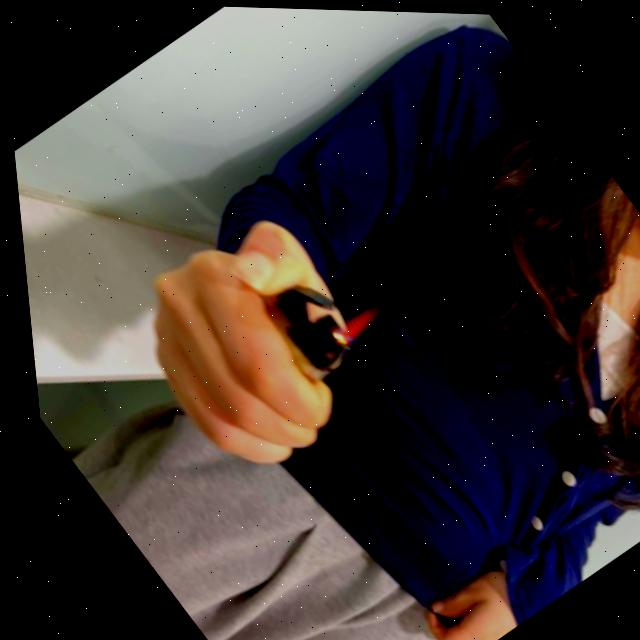Fire: (320, 294, 389, 348)
